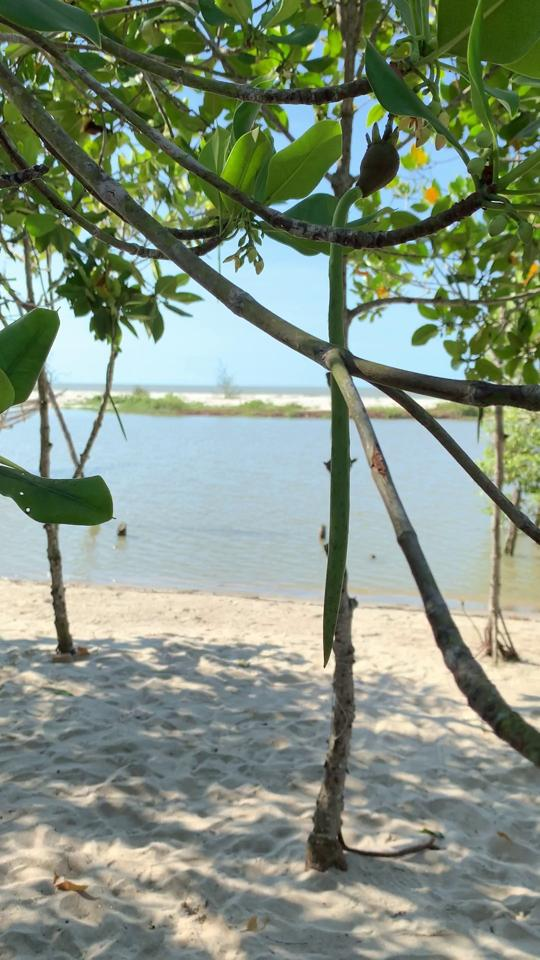setengah matang: (297, 122, 411, 674)
